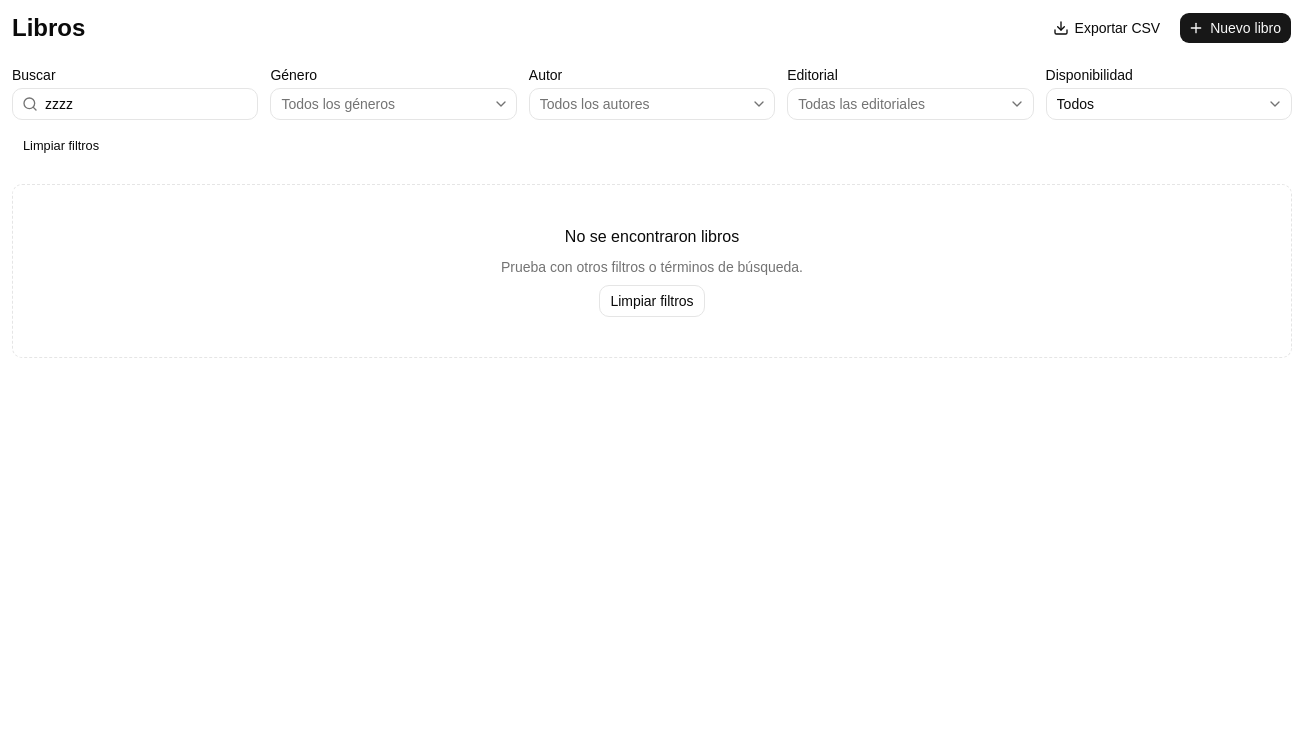
Test: BooksListPage › muestra el estado vacío y permite limpiar filtros
The image size is (1304, 732).
Check: the text "No se encontraron libros" is shown, box [565,225,739,249]
What coordinates should you click on to do the following:
click the button "Limpiar filtros" below "No se encontraron libros"
I would click on:
 (652, 301)
Its box is [599,285,705,317].
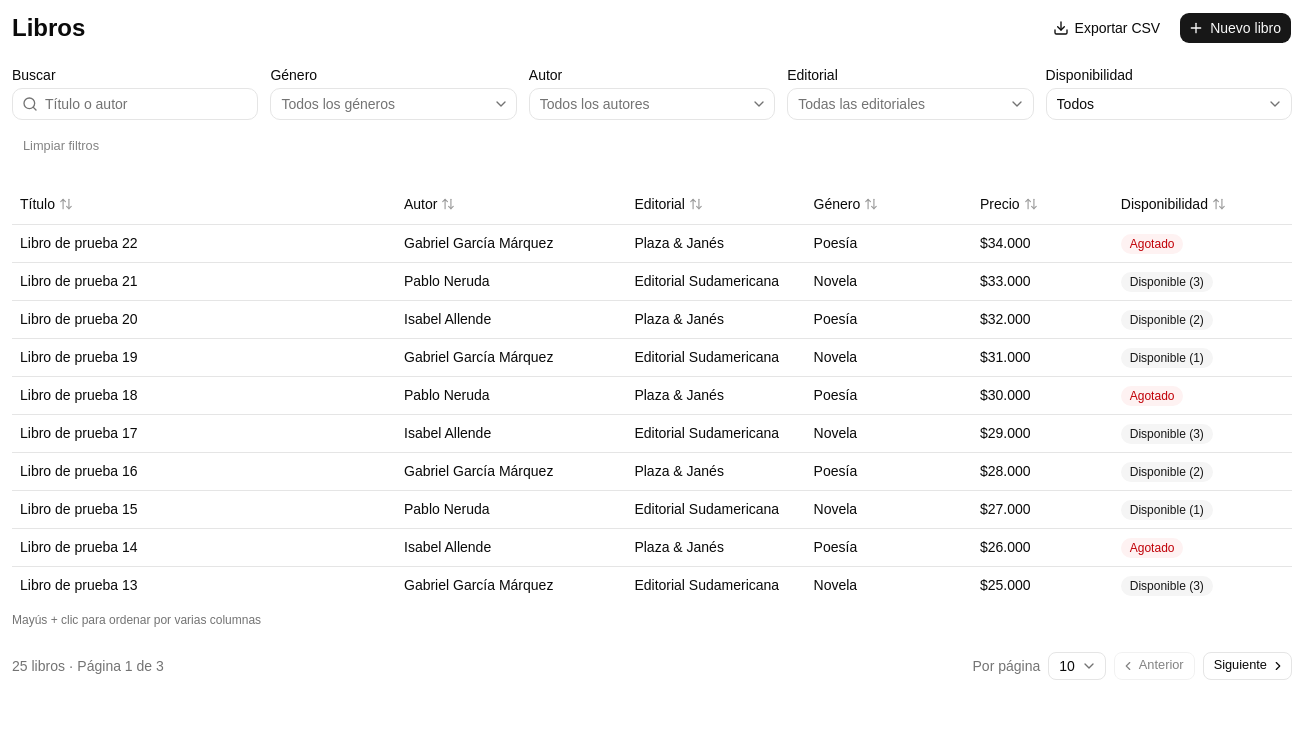
Check: the number of rows is 11
